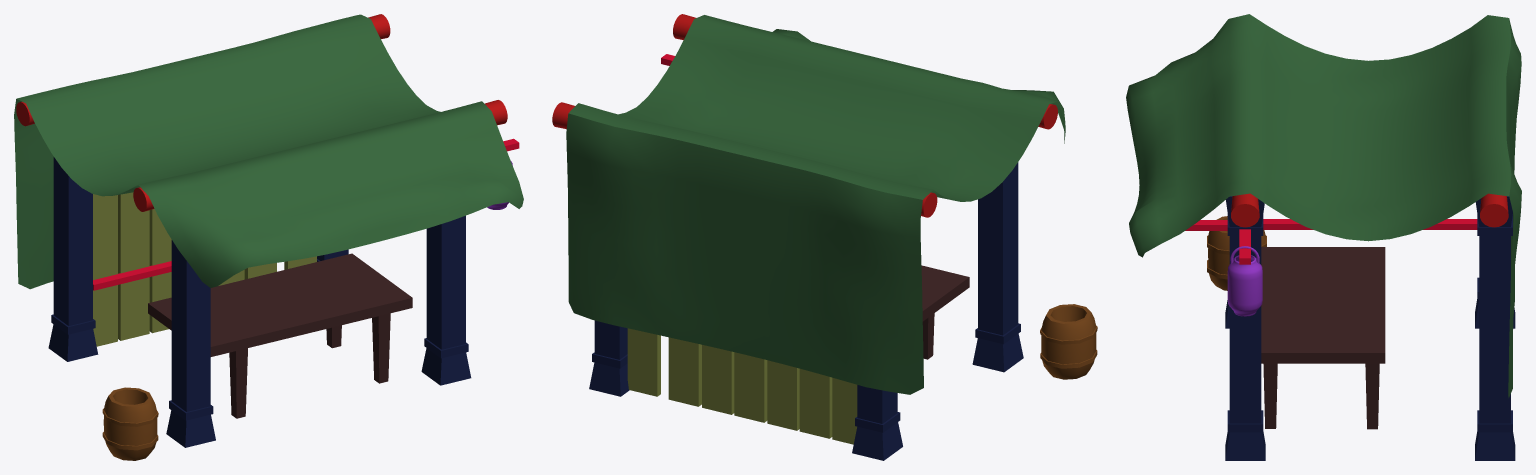
The model's file is stall.FBX.
3 views of the same model, side by side, from view 1: azimuth 30°, elevation 25°; view 2: azimuth 150°, elevation 25°; view 3: azimuth 270°, elevation 25° (orthographic). The views are drawn at different scales.
Visible parts, largest first — view 1: Cloth, Pillars, Table, Back Planks, Barrel, Top Planks, Planks; view 2: Cloth, Back Planks, Pillars, Barrel, Table, Top Planks; view 3: Cloth, Table, Pillars, Lantern, Planks, Top Planks, Barrel.
Boxes of the visible parts, x1,y1,x2,y2 form: Cloth: (14,14,523,289); Pillars: (48,157,471,447); Table: (148,253,412,418); Back Planks: (93,192,316,346); Barrel: (102,387,158,460); Top Planks: (16,14,507,211); Planks: (93,138,519,290); Cloth: (566,15,1065,394); Back Planks: (627,328,857,444); Pillars: (589,162,1023,460); Barrel: (1040,304,1097,379); Table: (921,265,969,359); Top Planks: (552,14,1057,217); Cloth: (1126,14,1521,397); Table: (1261,247,1385,429); Pillars: (1225,196,1515,460); Lantern: (1227,246,1262,316); Planks: (1185,219,1477,264); Top Planks: (1231,193,1508,227); Barrel: (1207,216,1266,290).
Size of the model in its own units: 132 by 103 by 80.86.
